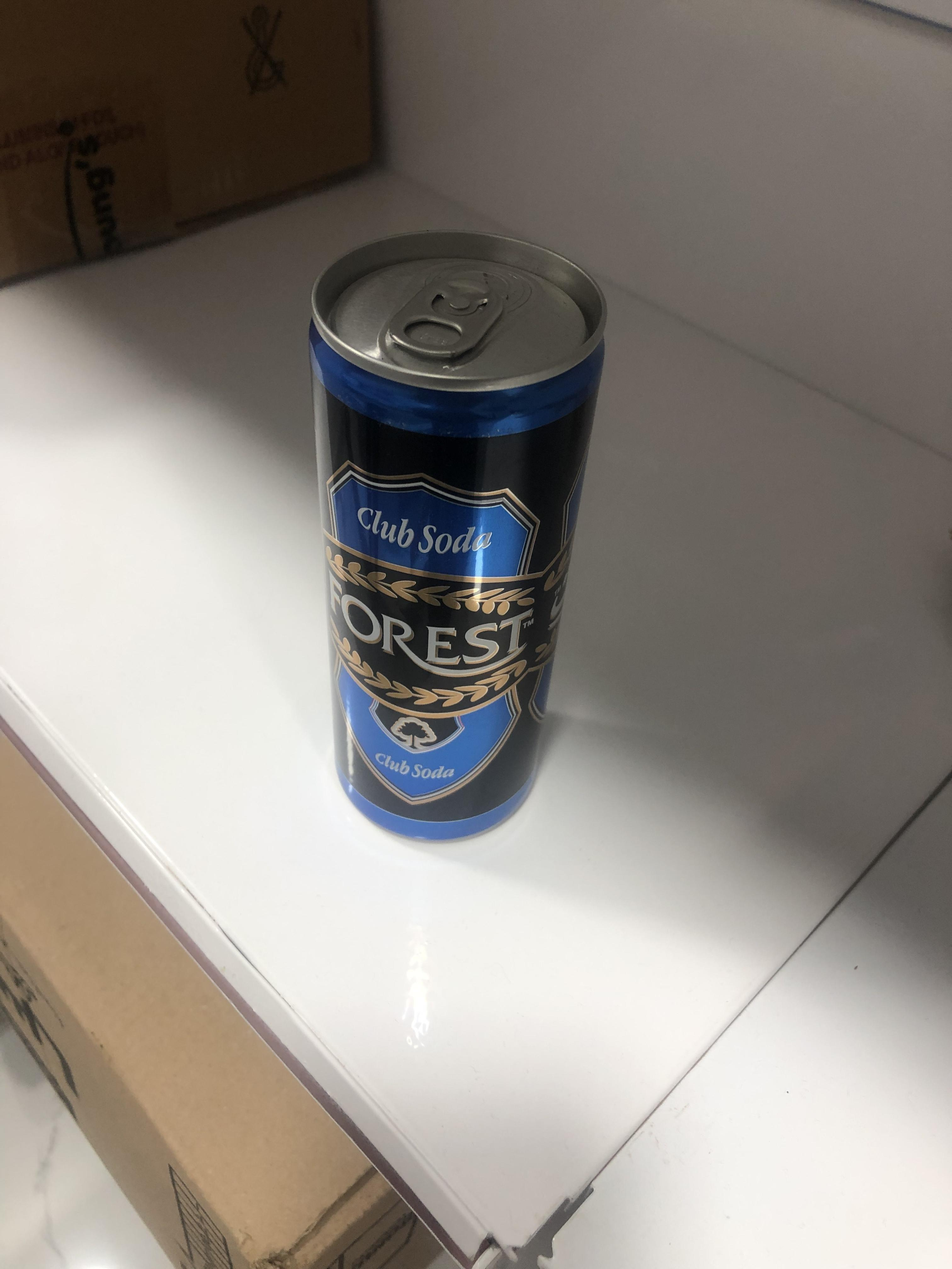tin can: (297, 227, 613, 841)
